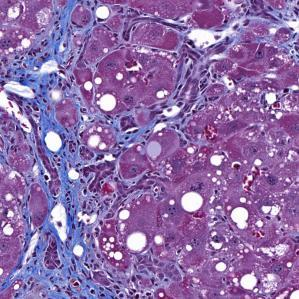fibrosis: (27, 152, 133, 284), (14, 38, 99, 132), (157, 63, 227, 130)
